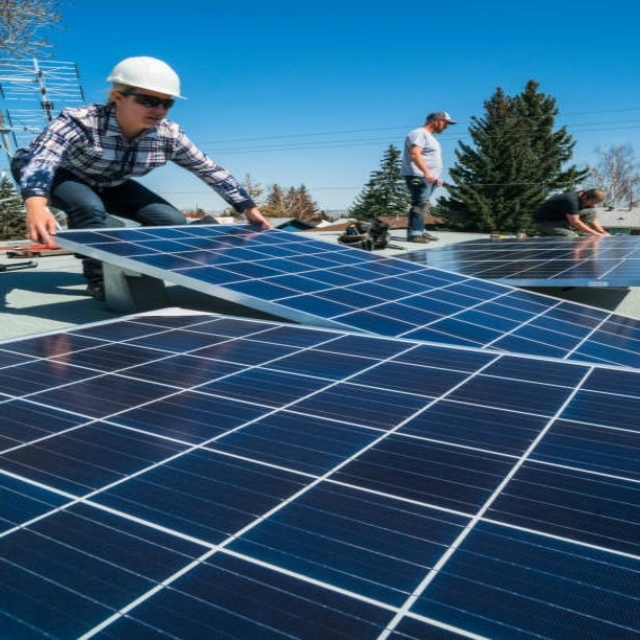Gafas: (120, 92, 176, 110)
Sin_guantes: (20, 201, 64, 249)
Sin_mascara: (135, 113, 168, 129)
